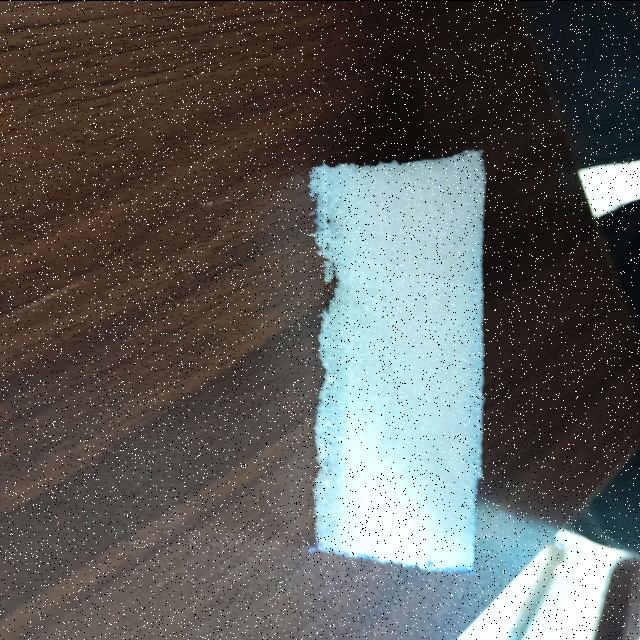engine: (298, 146, 500, 576)
